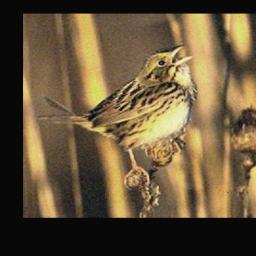Sparrow: (34, 43, 196, 188)
